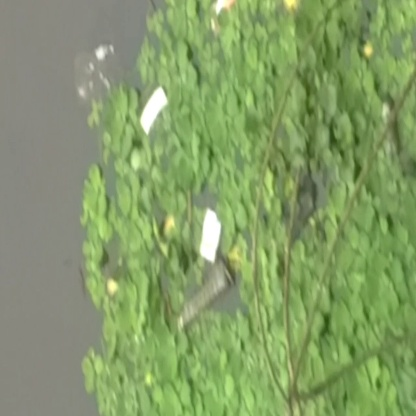bottle: (168, 268, 238, 334)
